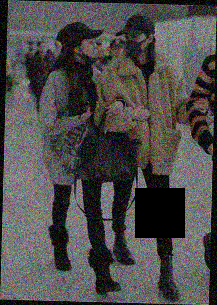mask_weared_incorrect: (78, 37, 99, 63)
with_mask: (123, 32, 149, 58)
